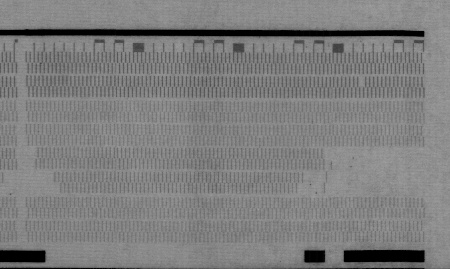Broken hole: (322, 146, 428, 196), (296, 170, 431, 198), (3, 170, 61, 200), (23, 146, 38, 170), (356, 76, 367, 89)
